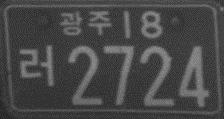1: (121, 7, 133, 40)
2: (139, 44, 176, 107), (67, 44, 102, 106)
4: (177, 45, 210, 108)
7: (100, 43, 136, 107)
8: (140, 9, 163, 40)
광주_O: (59, 8, 112, 37)
러: (17, 44, 55, 87)
